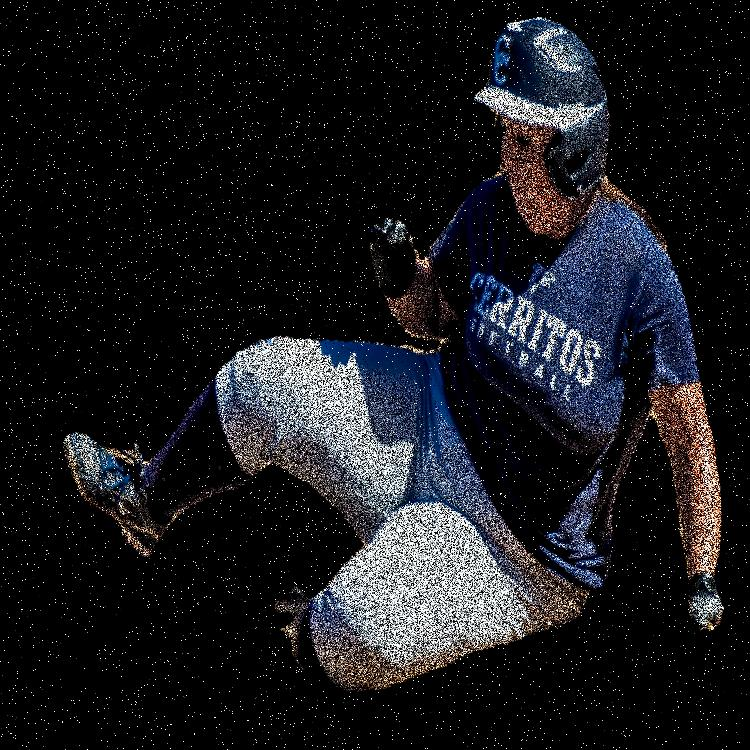Pessoa: (454, 0, 685, 749)
